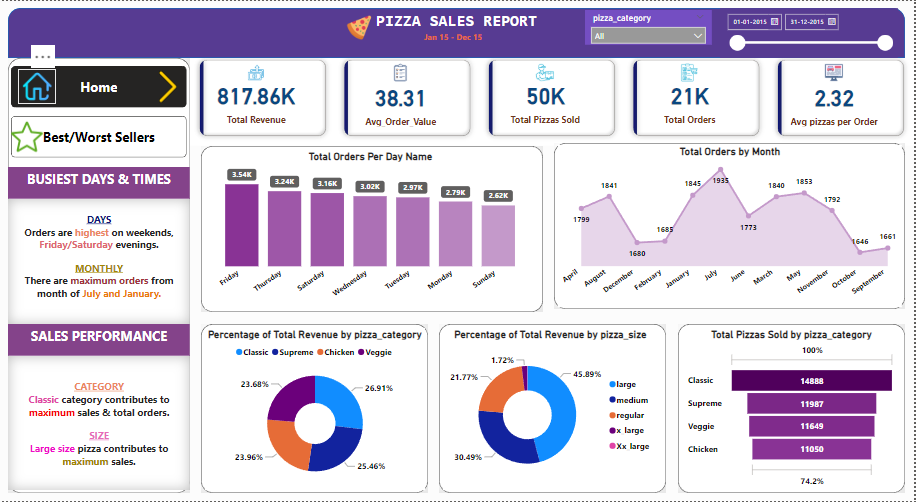

The dashboard page shown, as its layout file describes it:
{"tool":"powerbi","page":{"name":"Home","canvas":[1500,820],"ordinal":0},"visuals":[{"type":"cardVisual","fields":{"Data":["pizza_sales.Total Revenue","pizza_sales.Avg_Order_Value","pizza_sales.Total Pizzas Sold","pizza_sales.Total Orders","pizza_sales.Avg pizzas per Order"]},"box":[311.6,80.4,1189,157.4],"z":0},{"type":"shape","box":[13.1,11.5,1471.1,82],"z":1000},{"type":"shape","box":[13.1,93.5,298.5,713.4],"z":2000},{"type":"textbox","box":[588.8,11.5,319.8,47.6],"z":3000},{"type":"textbox","box":[690.4,44.3,114.8,36.1],"z":4000},{"type":"image","box":[562.5,18,52.5,50.8],"z":5000},{"type":"shape","box":[329.6,237.8,560.9,272.2],"z":6000},{"type":"shape","box":[908.6,232.9,575.6,272.2],"z":7000},{"type":"shape","box":[329.6,529.7,372.3,277.2],"z":8000},{"type":"shape","box":[720,529.7,372.3,277.2],"z":9000},{"type":"shape","box":[1111.9,529.7,372.3,277.2],"z":10000},{"type":"clusteredColumnChart","title":"Total Orders Per Day Name","fields":{"Category":["pizza_sales.Day Name"],"Y":["pizza_sales.Total Orders"]},"box":[336.2,244.4,542.8,260.8],"z":11000},{"type":"areaChart","title":"Total Orders by Month","fields":{"Category":["pizza_sales.Month Name"],"Y":["pizza_sales.Total Orders"]},"box":[915.1,236.2,564.2,265.7],"z":12000},{"type":"donutChart","title":"Percentage of Total Revenue by pizza_category","fields":{"Category":["pizza_sales.pizza_category"],"Y":["pizza_sales.Total Revenue"]},"box":[336.2,536.3,360.8,265.7],"z":13000},{"type":"donutChart","title":"Percentage of Total Revenue by pizza_size","fields":{"Category":["pizza_sales.pizza_size"],"Y":["pizza_sales.Total Revenue"]},"box":[726.5,536.3,352.6,265.7],"z":14000},{"type":"funnel","fields":{"Y":["pizza_sales.Total Pizzas Sold"],"Category":["pizza_sales.pizza_category"]},"box":[1123.4,536.3,349.3,265.7],"z":15000},{"type":"textbox","box":[13.1,529.7,298.5,52.5],"z":16000},{"type":"textbox","box":[13.1,272.2,298.5,52.5],"z":17000},{"type":"textbox","box":[13.1,324.7,298.5,205],"z":18000},{"type":"textbox","box":[13.1,582.2,298.5,219.8],"z":19000},{"type":"pageNavigator","box":[18,106.6,288.6,68.9],"z":20000},{"type":"pageNavigator","box":[18,188.6,288.6,68.9],"z":21000},{"type":"image","box":[29.5,111.5,62.3,57.4],"z":22000},{"type":"image","box":[244.4,106.6,62.3,68.9],"z":23000},{"type":"image","box":[13.1,188.6,62.3,68.9],"z":24000},{"type":"slicer","fields":{"Values":["pizza_sales.pizza_category"]},"box":[959.4,14.8,208.3,57.4],"z":25000},{"type":"slicer","fields":{"Values":["pizza_sales.order_date"]},"box":[1180.8,11.5,291.9,82],"z":26000}]}

Visuals, with their boxes on the page's 1500x820 design canvas (x1, y1, x2, y2). These are canvas units, not pixel positions in the 916x502 screenshot, which may show the page scaled, cropped or inside an application window:
cardVisual - pizza_sales.Total Revenue x pizza_sales.Avg_Order_Value: bbox=(312, 80, 1501, 238)
shape: bbox=(13, 12, 1484, 94)
shape: bbox=(13, 94, 312, 807)
textbox: bbox=(589, 12, 909, 59)
textbox: bbox=(690, 44, 805, 80)
image: bbox=(562, 18, 615, 69)
shape: bbox=(330, 238, 890, 510)
shape: bbox=(909, 233, 1484, 505)
shape: bbox=(330, 530, 702, 807)
shape: bbox=(720, 530, 1092, 807)
shape: bbox=(1112, 530, 1484, 807)
"Total Orders Per Day Name" clusteredColumnChart: bbox=(336, 244, 879, 505)
"Total Orders by Month" areaChart: bbox=(915, 236, 1479, 502)
"Percentage of Total Revenue by pizza_category" donutChart: bbox=(336, 536, 697, 802)
"Percentage of Total Revenue by pizza_size" donutChart: bbox=(726, 536, 1079, 802)
funnel - pizza_sales.Total Pizzas Sold x pizza_sales.pizza_category: bbox=(1123, 536, 1473, 802)
textbox: bbox=(13, 530, 312, 582)
textbox: bbox=(13, 272, 312, 325)
textbox: bbox=(13, 325, 312, 530)
textbox: bbox=(13, 582, 312, 802)
pageNavigator: bbox=(18, 107, 307, 176)
pageNavigator: bbox=(18, 189, 307, 258)
image: bbox=(30, 112, 92, 169)
image: bbox=(244, 107, 307, 176)
image: bbox=(13, 189, 75, 258)
slicer - pizza_sales.pizza_category: bbox=(959, 15, 1168, 72)
slicer - pizza_sales.order_date: bbox=(1181, 12, 1473, 94)
